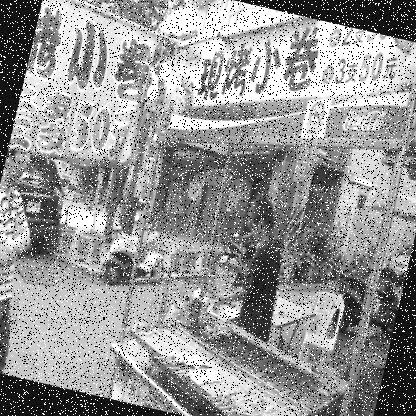Car: (0, 149, 75, 260), (386, 238, 413, 284)
